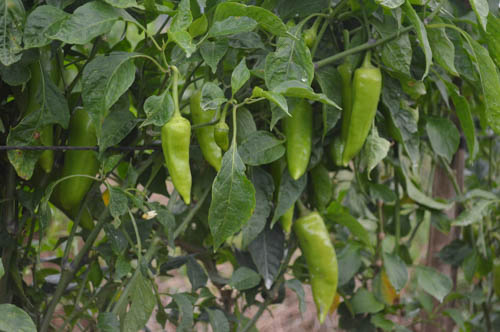ChiliPepper: (54, 110, 103, 212), (296, 212, 338, 323), (344, 67, 385, 171), (20, 50, 51, 173), (280, 88, 314, 186), (155, 118, 193, 204), (190, 90, 228, 170), (266, 157, 294, 234), (329, 65, 351, 138)
